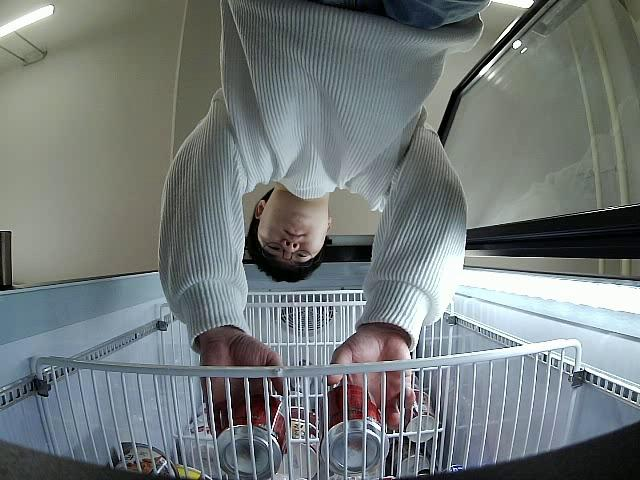00_hand: (199, 329, 288, 439), (328, 336, 416, 431)
11_cocaColaZero: (319, 385, 389, 474), (217, 397, 289, 480)
